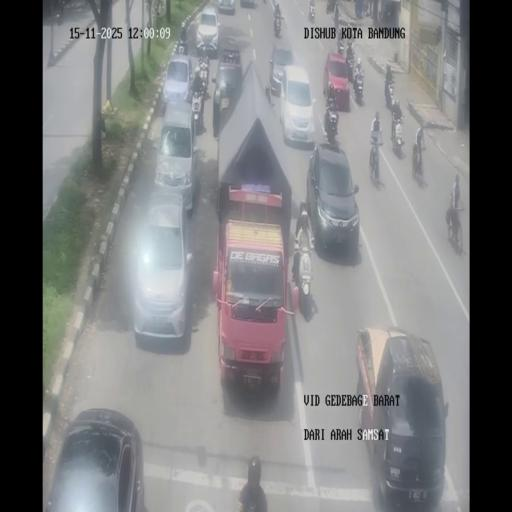car: (356, 329, 446, 509), (44, 408, 143, 512), (131, 192, 193, 343), (307, 142, 359, 260), (154, 100, 199, 213), (213, 46, 243, 134), (160, 53, 196, 116), (323, 52, 350, 112), (268, 44, 294, 96), (196, 4, 220, 56), (217, 0, 236, 15)
motorcycle: (292, 234, 314, 319), (447, 209, 463, 253), (191, 87, 204, 130), (196, 53, 210, 91), (324, 109, 339, 143), (368, 141, 380, 182), (412, 141, 424, 182), (393, 123, 406, 158), (176, 22, 190, 54), (352, 71, 364, 106), (342, 16, 358, 40), (385, 82, 395, 110), (273, 9, 282, 37), (54, 0, 65, 22), (346, 56, 354, 84), (333, 5, 340, 32), (338, 38, 346, 56), (384, 6, 393, 22), (326, 0, 336, 14), (362, 0, 369, 16), (309, 4, 315, 22), (378, 9, 383, 24)
truck: (214, 58, 295, 390)
